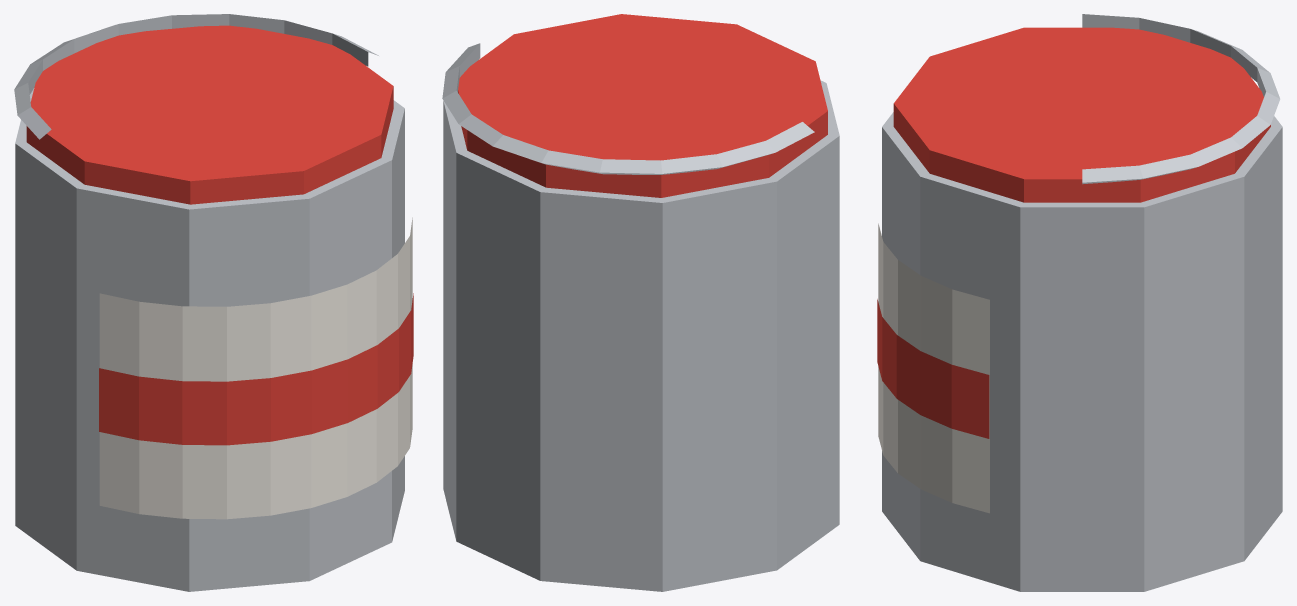
The model's file is paint_can_0.glb.
3 views of the same model, side by side, from view 1: azimuth 30°, elevation 25°; view 2: azimuth 150°, elevation 25°; view 3: azimuth 270°, elevation 25° (orthographic).
Visible parts, largest first — view 1: can_tin, lid, label_paint_label, label, handle_tin; view 2: can_tin, lid, handle_tin; view 3: can_tin, lid, label_paint_label, label, handle_tin.
Part boxes in pixels (<box>): can_tin: <box>15,89,404,591</box>; lid: <box>26,25,393,204</box>; label_paint_label: <box>99,217,412,519</box>; label: <box>99,293,413,445</box>; handle_tin: <box>14,14,378,139</box>; can_tin: <box>443,80,839,591</box>; lid: <box>458,14,827,197</box>; handle_tin: <box>442,43,814,174</box>; can_tin: <box>882,112,1282,591</box>; lid: <box>893,27,1270,202</box>; label_paint_label: <box>878,223,989,513</box>; label: <box>877,299,989,438</box>; handle_tin: <box>1082,14,1280,184</box>.
Size of the model in its own units: 0.168 by 0.1965 by 0.172.
